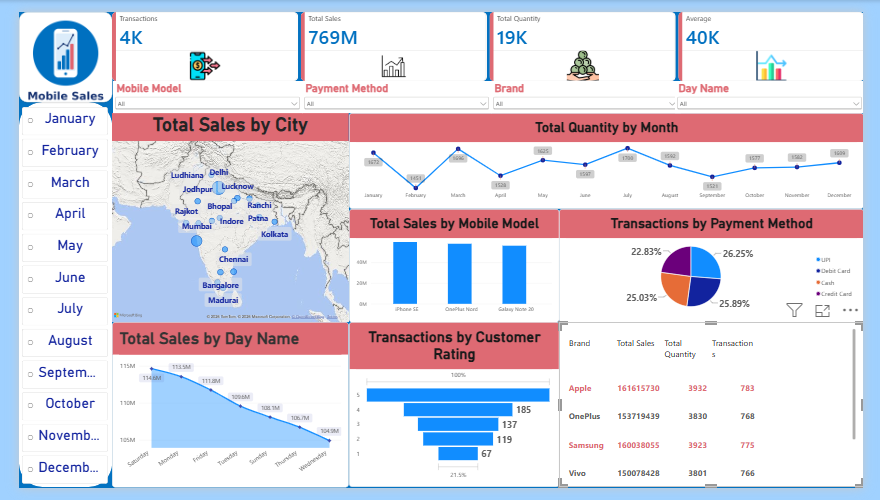

The dashboard page shown, as its layout file describes it:
{"tool":"powerbi","page":{"name":"Sales Dashboard","canvas":[1920,1080],"ordinal":0},"visuals":[{"type":"cardVisual","fields":{"Data":["Sales-Data.Transactions","Sales-Data.Total Sales","Sales-Data.TOtal Quantity","Sales-Data.Average"]},"box":[212.5,0,1708.6,157.7],"z":0},{"type":"shape","box":[0,205,211.7,874.8],"z":1000},{"type":"advancedSlicerVisual","fields":{"Values":["Sheet1.Date.Variation.Date Hierarchy.Month"]},"box":[7.5,185,195,895],"z":2000},{"type":"shape","box":[0,0,211.7,205.2],"z":3000},{"type":"map","fields":{"Category":["Sales-Data.City"],"Size":["Sales-Data.Total Sales"]},"box":[212,230,538,474],"z":4000},{"type":"lineChart","title":"Total Quantity by Month","fields":{"Category":["Sales-Data.Date.Variation.Date Hierarchy.Month","Sales-Data.Date.Variation.Date Hierarchy.Day"],"Y":["Sales-Data.TOtal Quantity"]},"box":[750,230,1170,217.5],"z":5000},{"type":"clusteredColumnChart","fields":{"Category":["Sales-Data.Mobile Model"],"Y":["Sales-Data.Total Sales"]},"box":[750,447.5,477.5,257.5],"z":6000},{"type":"pieChart","fields":{"Category":["Sales-Data.Payment Method"],"Y":["Sales-Data.Transactions"]},"box":[1227.5,447.5,692.5,257.5],"z":7000},{"type":"funnel","title":"Transactions by Customer Rating","fields":{"Category":["Sales-Data.Customer Ratings"],"Y":["Sales-Data.Transactions"]},"box":[750,705,477.5,375],"z":8000},{"type":"areaChart","fields":{"Category":["Sales-Data.Day Name"],"Y":["Sales-Data.Total Sales"]},"box":[212,704,538,376],"z":9000},{"type":"tableEx","fields":{"Values":["Sales-Data.Brand","Sales-Data.Total Sales","Sales-Data.TOtal Quantity","Sales-Data.Transactions"]},"box":[1227.5,705,692,374],"z":10000},{"type":"cardVisual","fields":{"Data":["Sales-Data.Transactions","Sales-Data.Total Sales","Sales-Data.TOtal Quantity","Sales-Data.Average"]},"box":[211.4,0,1708.6,157.7],"z":11000},{"type":"slicer","fields":{"Values":["Sales-Data.Mobile Model"]},"box":[212.5,157.5,430,72.5],"z":12000},{"type":"slicer","fields":{"Values":["Sales-Data.Payment Method"]},"box":[642.5,157.5,430,72.5],"z":13000},{"type":"slicer","fields":{"Values":["Sales-Data.Brand"]},"box":[1072.5,157.5,430,72.5],"z":14000},{"type":"slicer","fields":{"Values":["Sales-Data.Day Name"]},"box":[1490,157.5,430,72.5],"z":15000},{"type":"image","box":[0,0,211.7,229],"z":16000}]}

Visuals, with their boxes in screenshot pixels (x1, y1, x2, y2), scaled from the page's 1920x1080 canvas onto the 880x500 screenshot:
cardVisual - Sales-Data.Transactions x Sales-Data.Total Sales: 97:0:879:73
shape: 0:95:97:499
advancedSlicerVisual - Sheet1.Date.Variation.Date Hierarchy.Month: 3:86:93:499
shape: 0:0:97:95
map - Sales-Data.City x Sales-Data.Total Sales: 97:106:344:326
"Total Quantity by Month" lineChart: 344:106:879:207
clusteredColumnChart - Sales-Data.Mobile Model x Sales-Data.Total Sales: 344:207:563:326
pieChart - Sales-Data.Payment Method x Sales-Data.Transactions: 563:207:879:326
"Transactions by Customer Rating" funnel: 344:326:563:499
areaChart - Sales-Data.Day Name x Sales-Data.Total Sales: 97:326:344:499
tableEx - Sales-Data.Brand x Sales-Data.Total Sales: 563:326:879:499
cardVisual - Sales-Data.Transactions x Sales-Data.Total Sales: 97:0:879:73
slicer - Sales-Data.Mobile Model: 97:73:294:106
slicer - Sales-Data.Payment Method: 294:73:492:106
slicer - Sales-Data.Brand: 492:73:689:106
slicer - Sales-Data.Day Name: 683:73:879:106
image: 0:0:97:106
